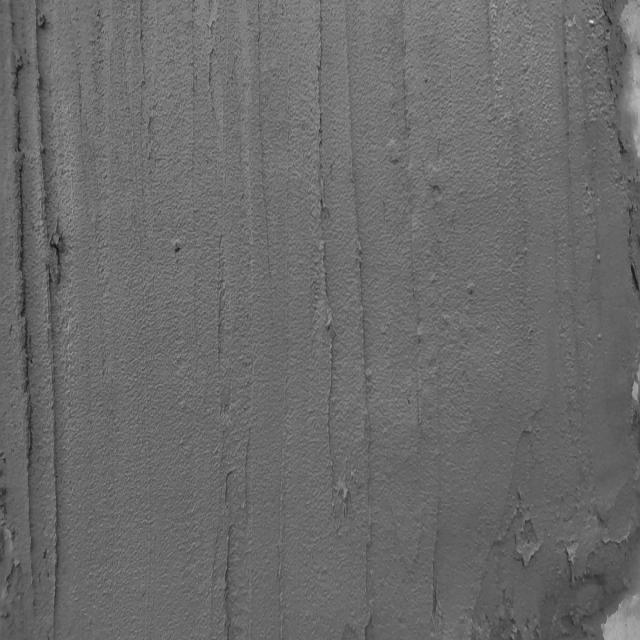trowels marks: (7, 14, 66, 606), (339, 7, 377, 638), (310, 4, 332, 501)
